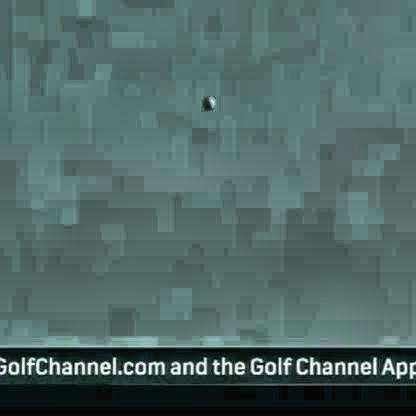golfball: (199, 92, 215, 108)
